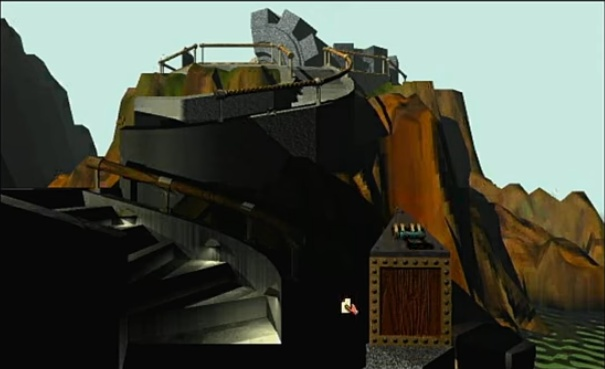Keep: (339, 295, 361, 316)
